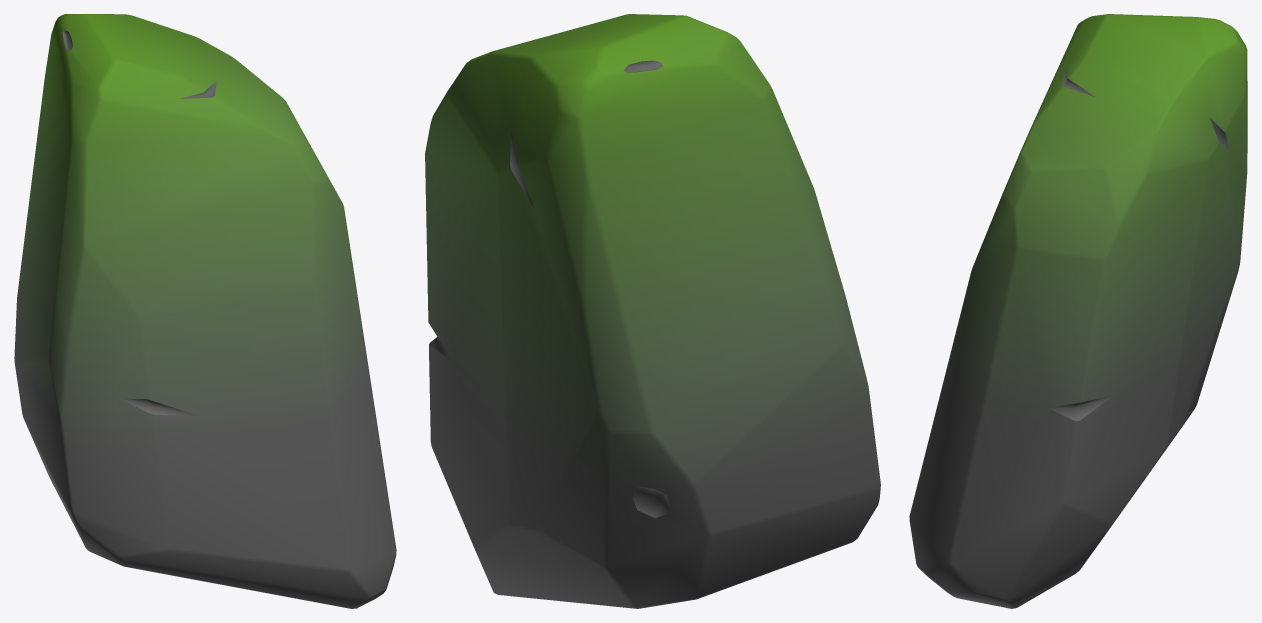
File: Rock09_1.fbx
3 views of the same model, side by side, from view 1: azimuth 30°, elevation 25°; view 2: azimuth 150°, elevation 25°; view 3: azimuth 270°, elevation 25° (orthographic). The views are drawn at different scales.
Visible parts, largest first — view 1: LOD0; view 2: LOD0; view 3: LOD0.
Boxes of the visible parts, box(x1,y1,x2,y2) form: LOD0: box(14, 14, 396, 608); LOD0: box(425, 14, 880, 608); LOD0: box(909, 14, 1247, 608).
Size of what is drawn, in the model's own units: 450 by 430 by 710.
